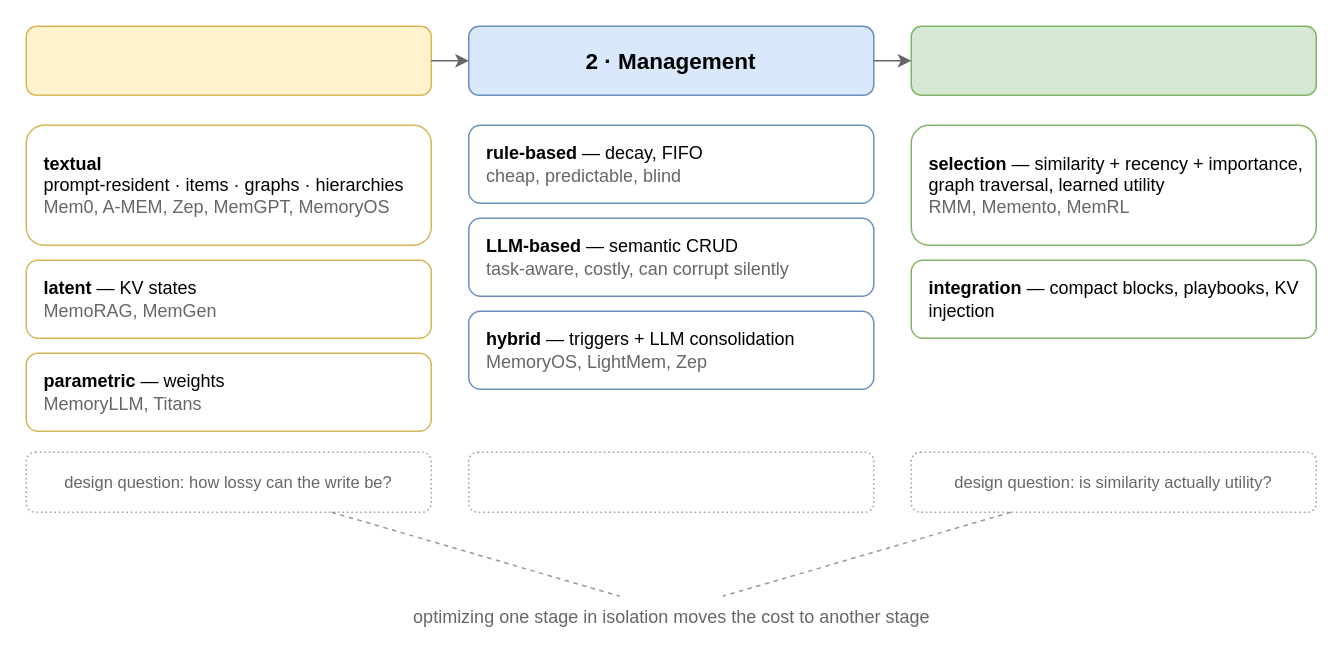
The diagram is 1343 pixels wide and 654 high, and some of its shapes have lost their labels. The centre of each missing label's shape, as x and y in pixels:
1 · Construction: the point at 228,60
3 · Access: the point at 1113,60
design question: which update is worth its cost?: the point at 670,481
